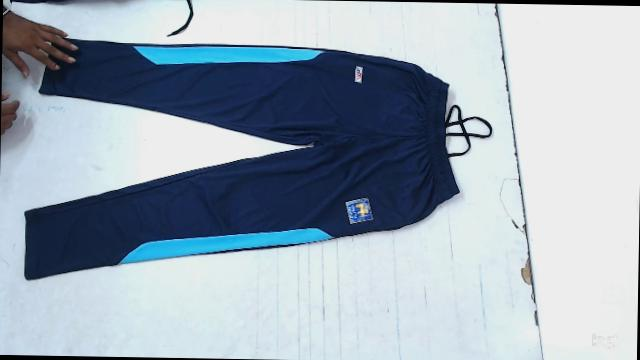new-garment: (25, 39, 490, 278)
